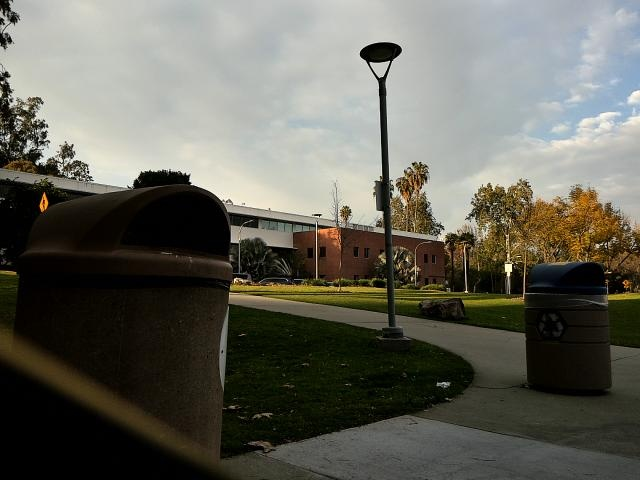trashcan: (17, 181, 241, 471), (521, 255, 626, 405)
